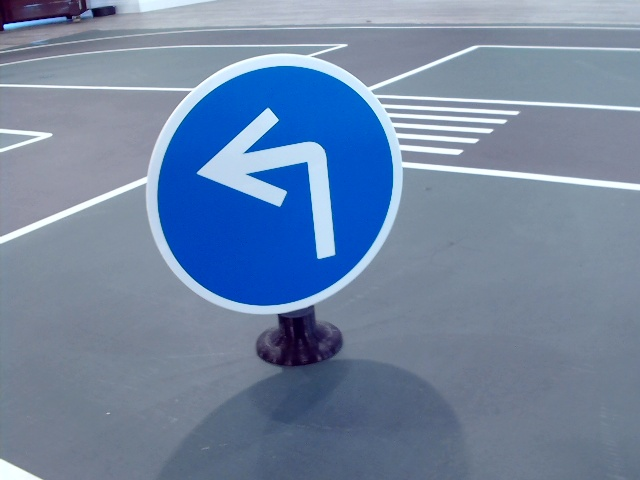turn_left: (202, 107, 337, 263)
